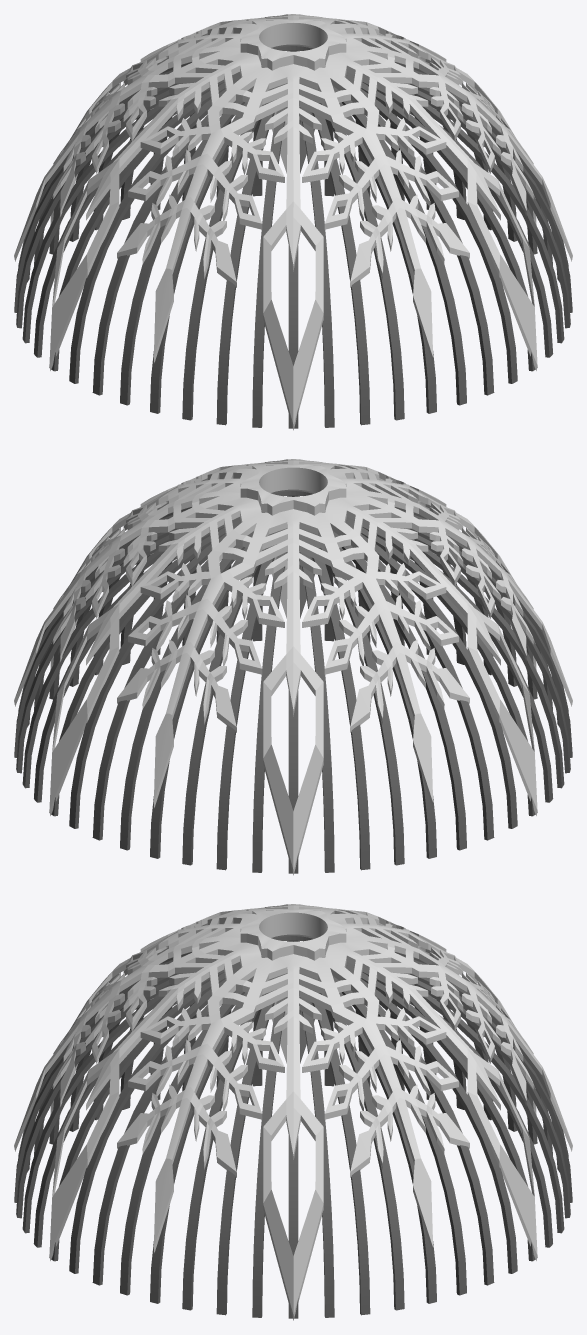
The model's file is field_winter_goal_dome.fbx.
The picture shows the model from 3 angles, top to bottom: view 1: azimuth 30°, elevation 25°; view 2: azimuth 150°, elevation 25°; view 3: azimuth 270°, elevation 25°; orthographic projection.
Parts seen in each view (by area): view 1: field_winter_goal_dome; view 2: field_winter_goal_dome; view 3: field_winter_goal_dome.
Part boxes in pixels (x1,y1,x2,y2): field_winter_goal_dome: (14,14,572,430); field_winter_goal_dome: (14,459,572,875); field_winter_goal_dome: (14,904,572,1320).
Size of the model in its own units: 1308 by 705 by 1298.
Materials: 1 (1 with a texture image).
